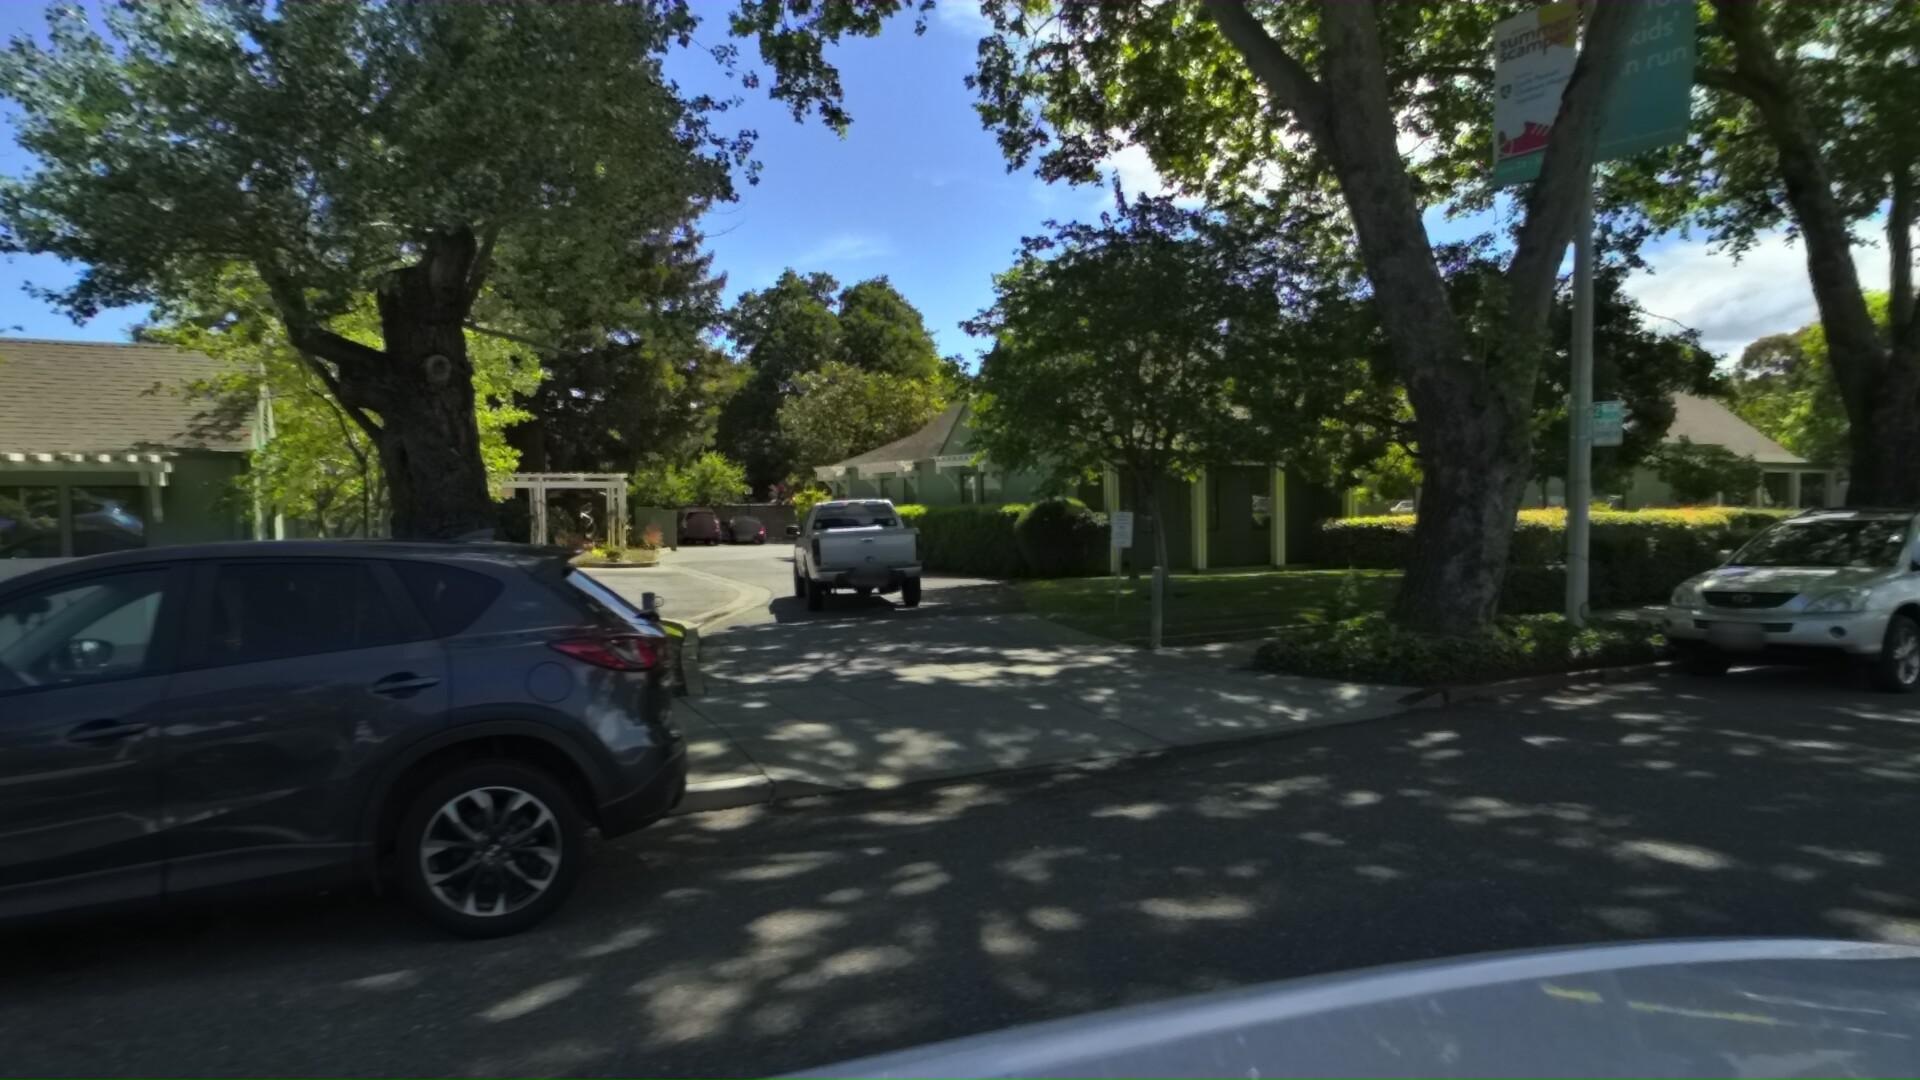car: (0, 502, 847, 1080), (1646, 492, 1920, 709), (800, 483, 968, 618)
